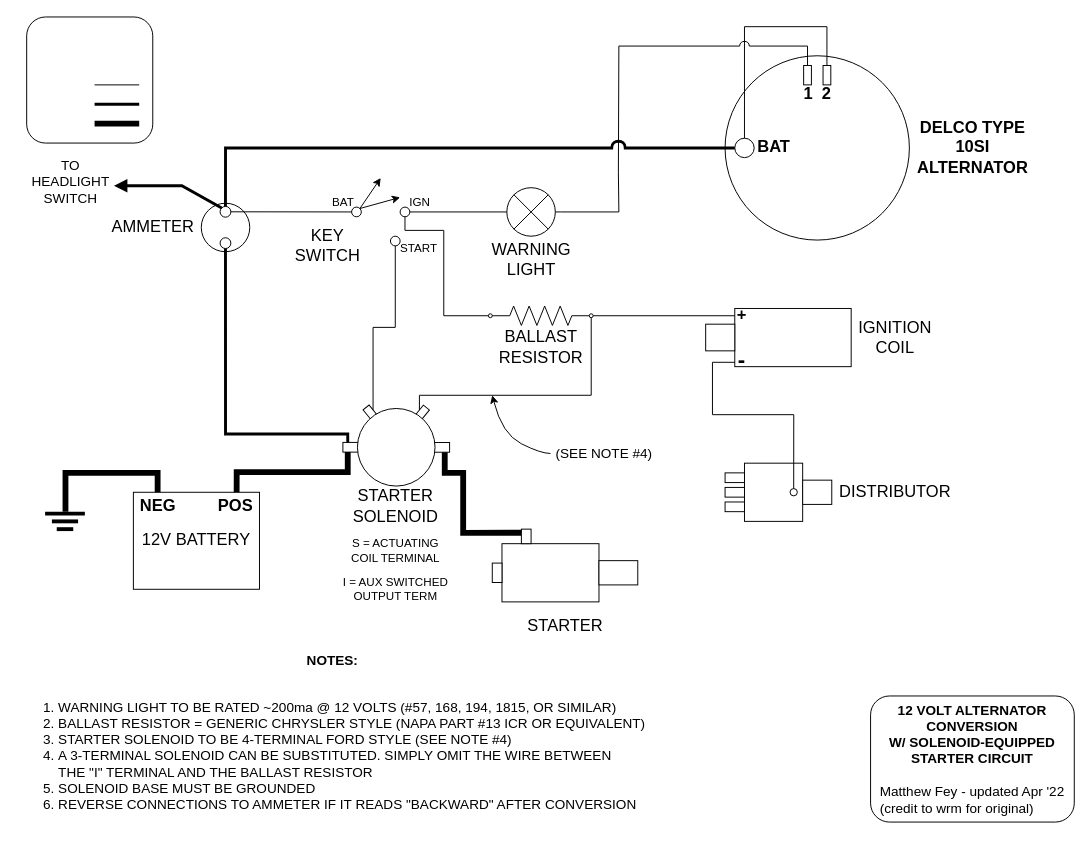
This 1091x849 diagram has some shape labels left out. The shapes that lost their labels are listed below. From the top down, each one's centre as x and y in pixels, then its label:
(x=89, y=79): WIRE GAUGE LEGEND 16 GA 10 GA 2 GA
(x=395, y=446): S I
